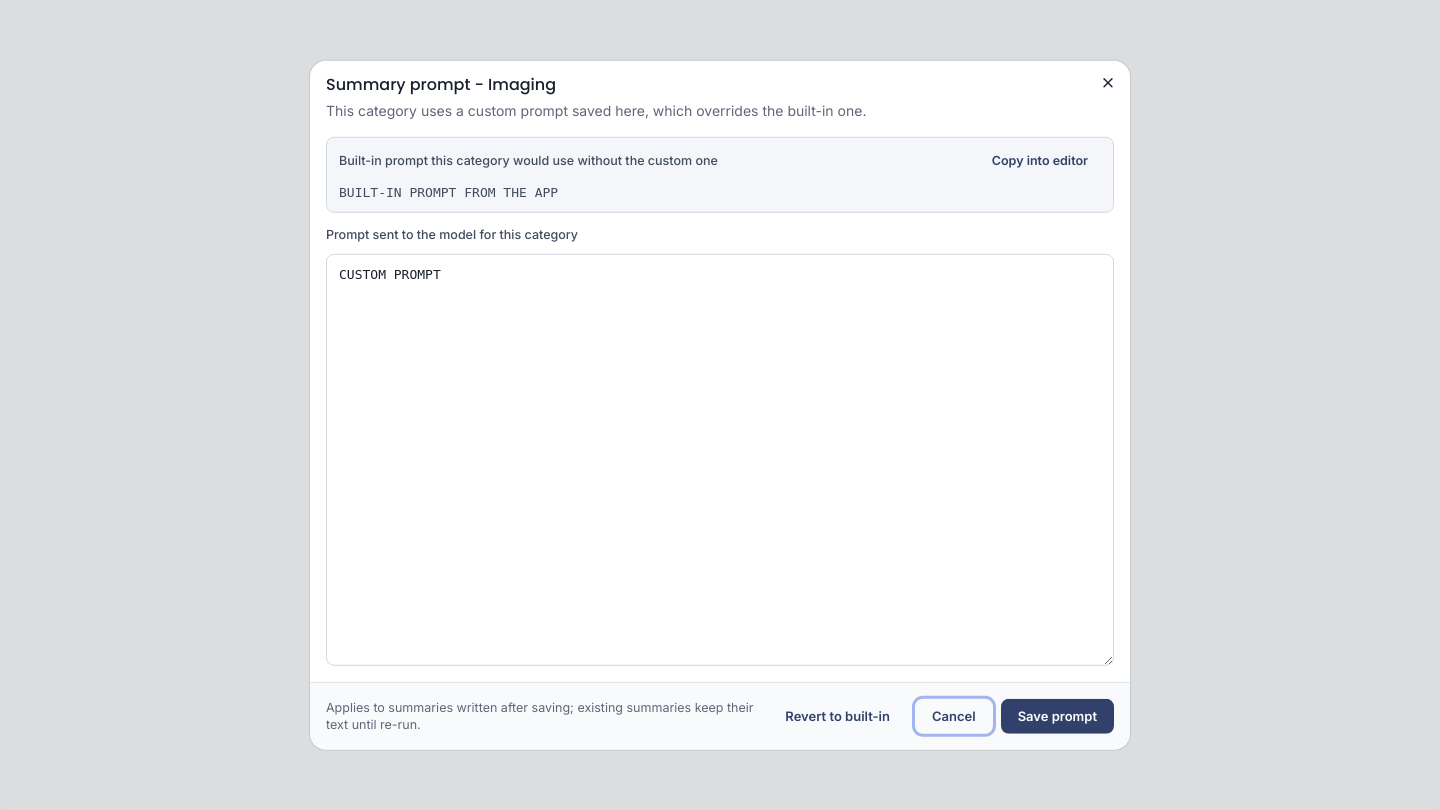
it: PromptDialog reference panel › copies the built-in prompt into the editor
Expected: the text box labelled "Prompt sent to the model for this category" holds "CUSTOM PROMPT", 326,253 -> 1114,665
What coordinates should you click on to do the following:
click the button "Copy into editor"
I would click on:
 (1040, 161)
Its box is 979,148 -> 1101,174.
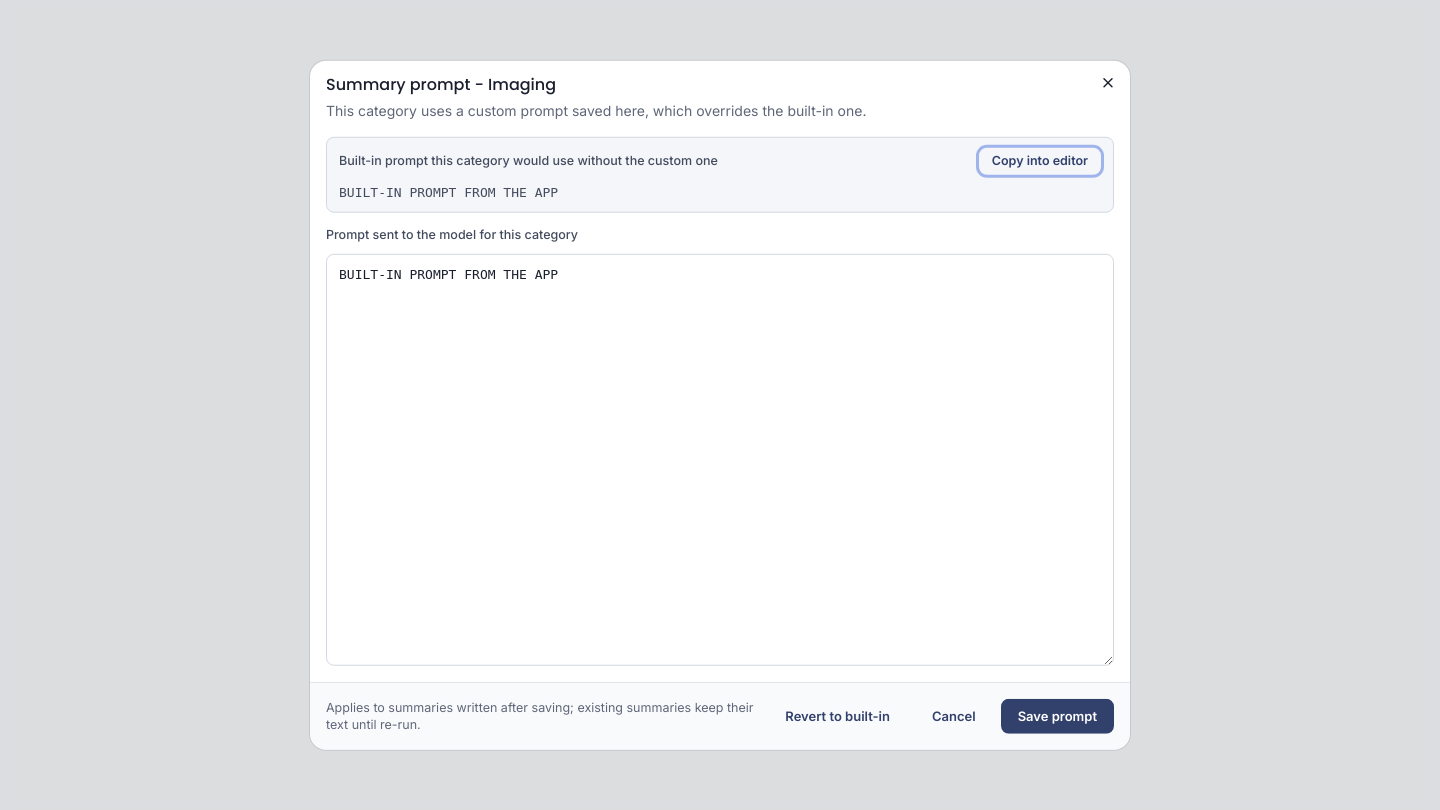
Expected: the text box labelled "Prompt sent to the model for this category" holds "BUILT-IN PROMPT FROM THE APP", 326,253 -> 1114,665
